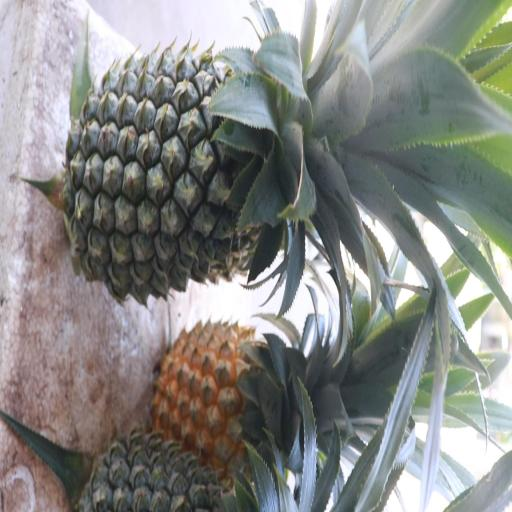Pineapple - v8 v1: (159, 304, 326, 473)
